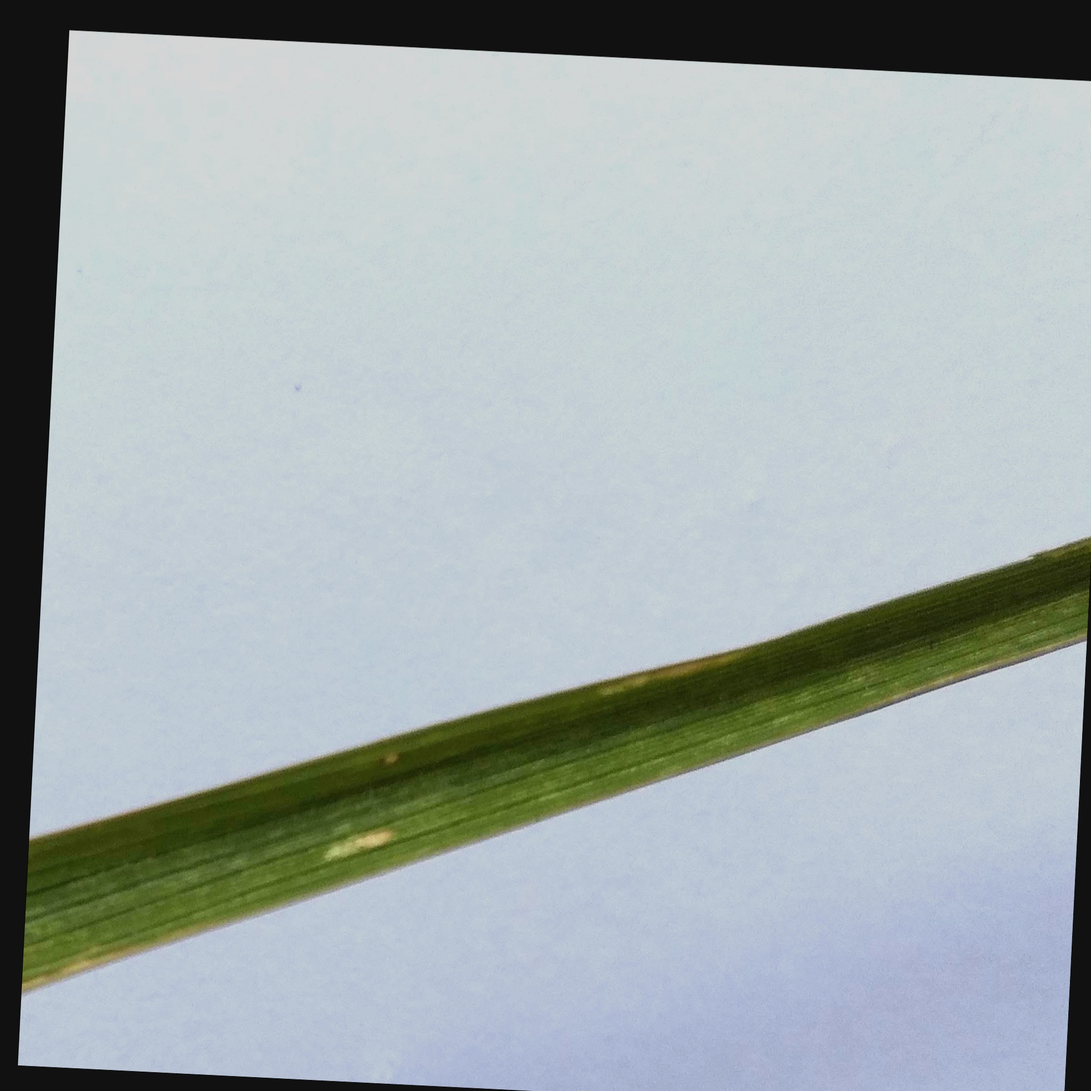Brown_Spot: (315, 822, 396, 859)
